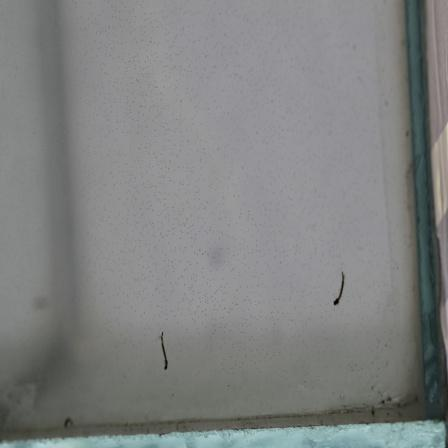Jentik-Nyamuk: (152, 324, 175, 371), (331, 268, 351, 308)
